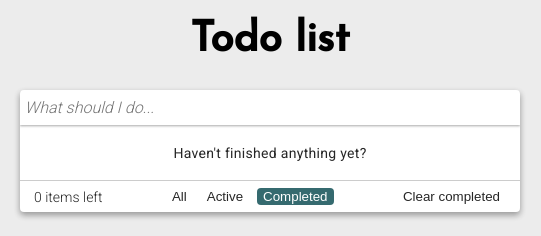
it: Adding todos › Add one element
Type "aaa" into the field.
click(270, 108); type("aaa")  # box [20, 90, 520, 125]
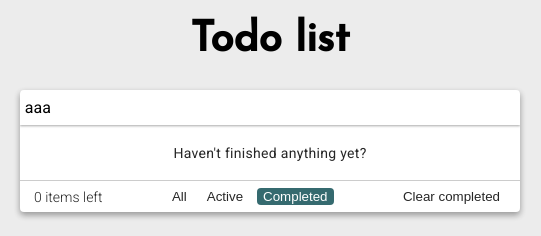
Press Enter in the field, box [20, 90, 520, 125]
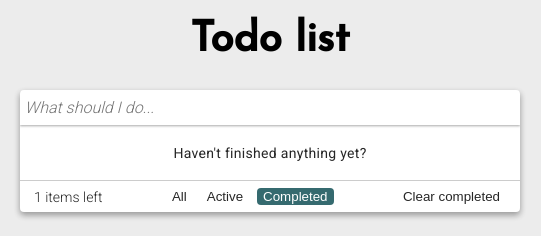
Check: the field is empty, box [20, 90, 520, 125]
Check: the text "1 items left" is shown, box [34, 189, 102, 205]
